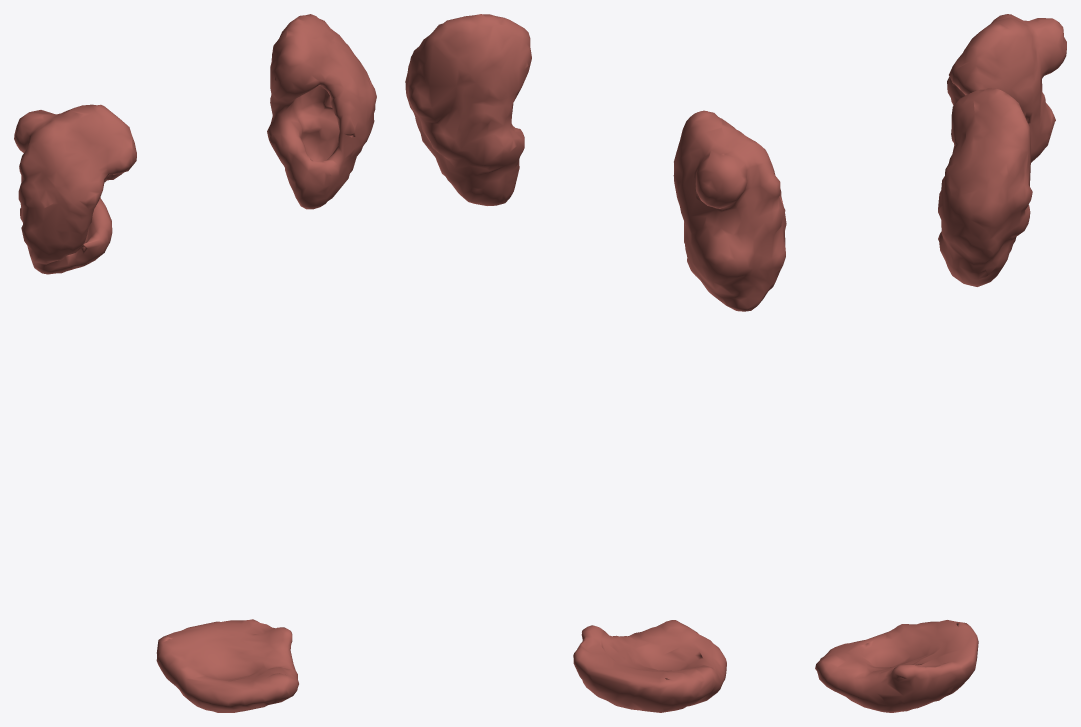
File: tsd_s0327_older_adult_male.urinary.LOD2.glb
3 views of the same model, side by side, from view 1: azimuth 30°, elevation 25°; view 2: azimuth 150°, elevation 25°; view 3: azimuth 270°, elevation 25° (orthographic). The views are drawn at different scales.
Visible parts, largest first — view 1: TSD_S0327.OLDER_ADULT.MALE.URINARY.KIDNEY.R, TSD_S0327.OLDER_ADULT.MALE.URINARY.KIDNEY.L, TSD_S0327.OLDER_ADULT.MALE.URINARY.URINARY_BLADDER; view 2: TSD_S0327.OLDER_ADULT.MALE.URINARY.KIDNEY.L, TSD_S0327.OLDER_ADULT.MALE.URINARY.KIDNEY.R, TSD_S0327.OLDER_ADULT.MALE.URINARY.URINARY_BLADDER; view 3: TSD_S0327.OLDER_ADULT.MALE.URINARY.KIDNEY.L, TSD_S0327.OLDER_ADULT.MALE.URINARY.URINARY_BLADDER, TSD_S0327.OLDER_ADULT.MALE.URINARY.KIDNEY.R.
Part boxes in pixels (<box>): TSD_S0327.OLDER_ADULT.MALE.URINARY.KIDNEY.R: <box>14,104,136,274</box>; TSD_S0327.OLDER_ADULT.MALE.URINARY.KIDNEY.L: <box>267,14,376,209</box>; TSD_S0327.OLDER_ADULT.MALE.URINARY.URINARY_BLADDER: <box>156,619,298,712</box>; TSD_S0327.OLDER_ADULT.MALE.URINARY.KIDNEY.L: <box>405,14,531,205</box>; TSD_S0327.OLDER_ADULT.MALE.URINARY.KIDNEY.R: <box>673,110,786,311</box>; TSD_S0327.OLDER_ADULT.MALE.URINARY.URINARY_BLADDER: <box>573,620,726,712</box>; TSD_S0327.OLDER_ADULT.MALE.URINARY.KIDNEY.L: <box>938,88,1032,286</box>; TSD_S0327.OLDER_ADULT.MALE.URINARY.URINARY_BLADDER: <box>815,620,978,712</box>; TSD_S0327.OLDER_ADULT.MALE.URINARY.KIDNEY.R: <box>947,14,1066,162</box>.
Bounding box in the file's own units: 0.1818 × 0.3167 × 0.1084.
